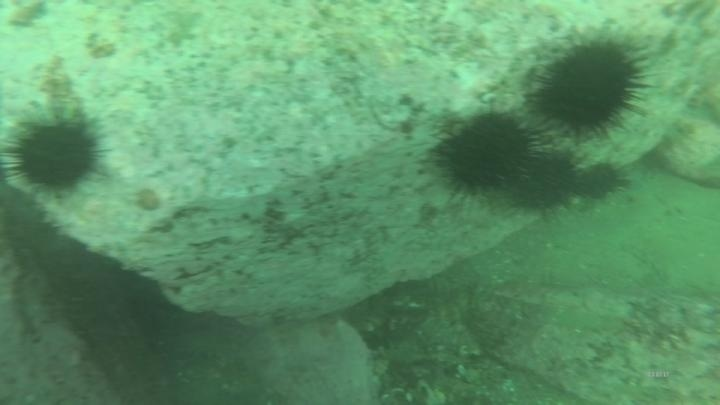echinus: (527, 31, 652, 142), (430, 104, 545, 200), (4, 110, 107, 198), (503, 148, 584, 215), (573, 159, 630, 202)
